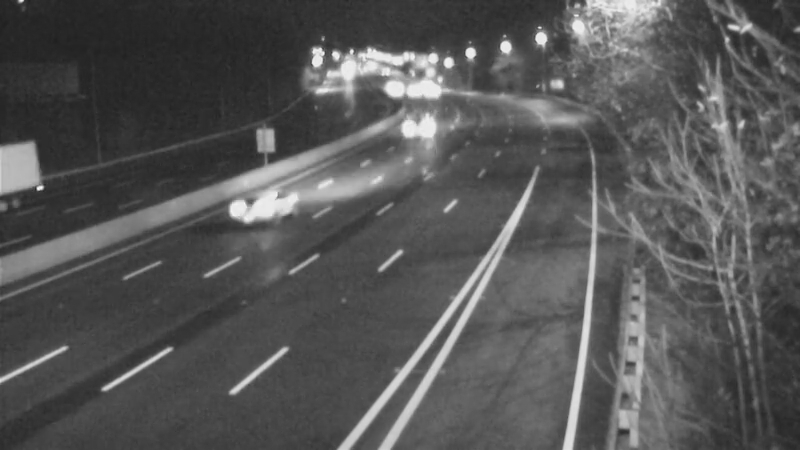vehicle: (218, 168, 298, 248), (1, 147, 71, 227), (374, 65, 424, 115), (410, 68, 460, 118), (390, 70, 440, 120), (398, 98, 448, 148)
